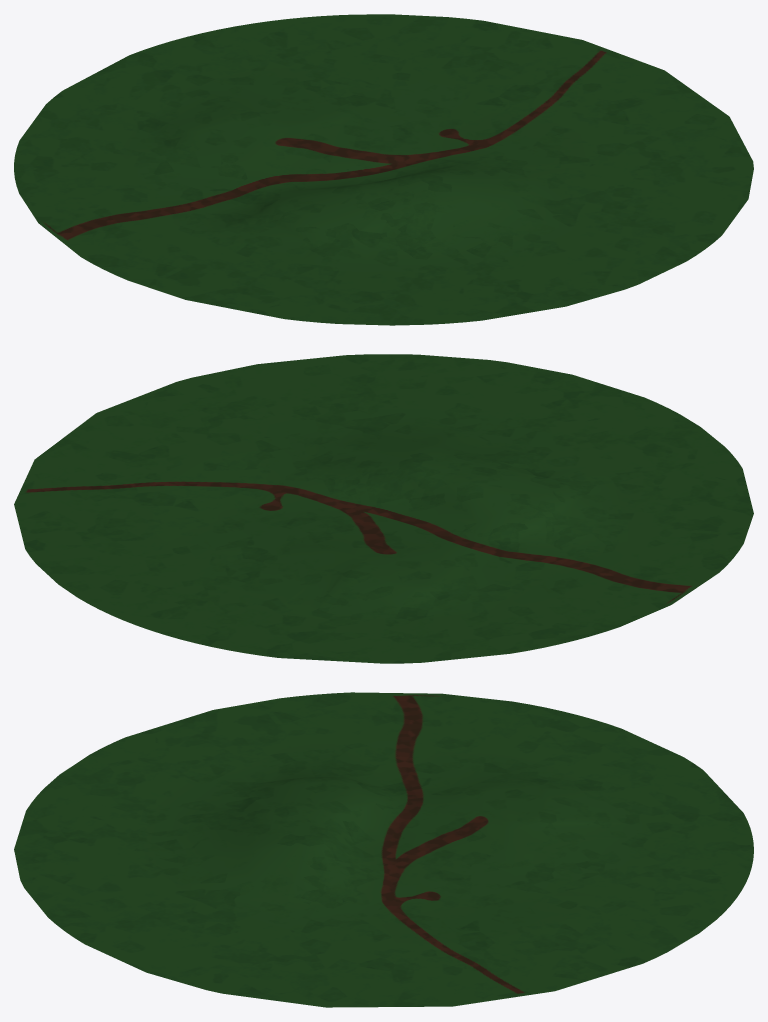
The model's file is Grass Export.glb.
3 views of the same model, one above another, from view 1: azimuth 30°, elevation 25°; view 2: azimuth 150°, elevation 25°; view 3: azimuth 270°, elevation 25° (orthographic).
Parts seen in each view (by area): view 1: Plane; view 2: Plane; view 3: Plane.
Boxes of the visible parts, bbox=[...] form: Plane: bbox=[14, 14, 753, 325]; Plane: bbox=[14, 354, 753, 663]; Plane: bbox=[14, 692, 753, 1007].
Size of the model in its own units: 794 by 22.68 by 801.
1 material, 1 textured.
